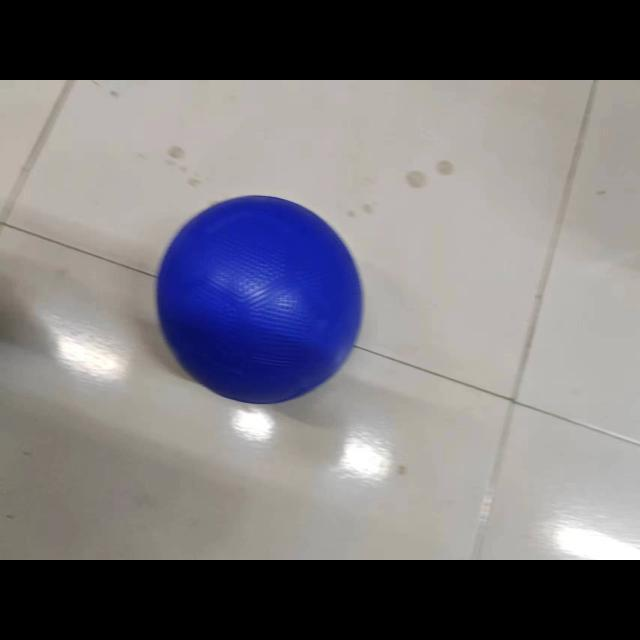B: (148, 196, 366, 407)
